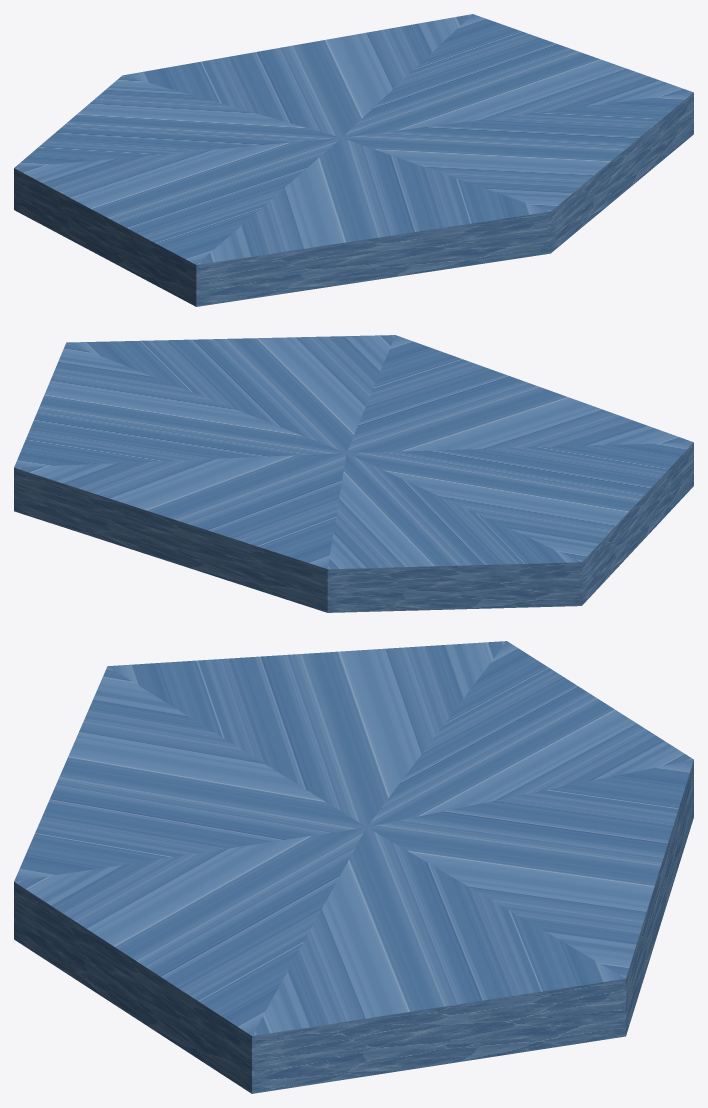
The model's file is ice_fragment.glb.
The picture shows the model from 3 angles, top to bottom: view 1: azimuth 30°, elevation 25°; view 2: azimuth 150°, elevation 25°; view 3: azimuth 270°, elevation 25°; orthographic projection. The views are drawn at different scales.
Parts seen in each view (by area): view 1: winter_ice_fragment; view 2: winter_ice_fragment; view 3: winter_ice_fragment.
Part boxes in pixels (x1,y1,x2,y2): winter_ice_fragment: (14, 14, 693, 306); winter_ice_fragment: (14, 335, 693, 612); winter_ice_fragment: (14, 641, 693, 1093).
Size of the model in its own units: 1.1 by 0.075 by 0.8.
1 material, 1 textured.
